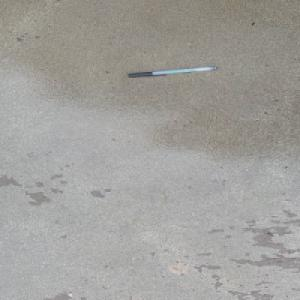Pen: (126, 65, 218, 78)
